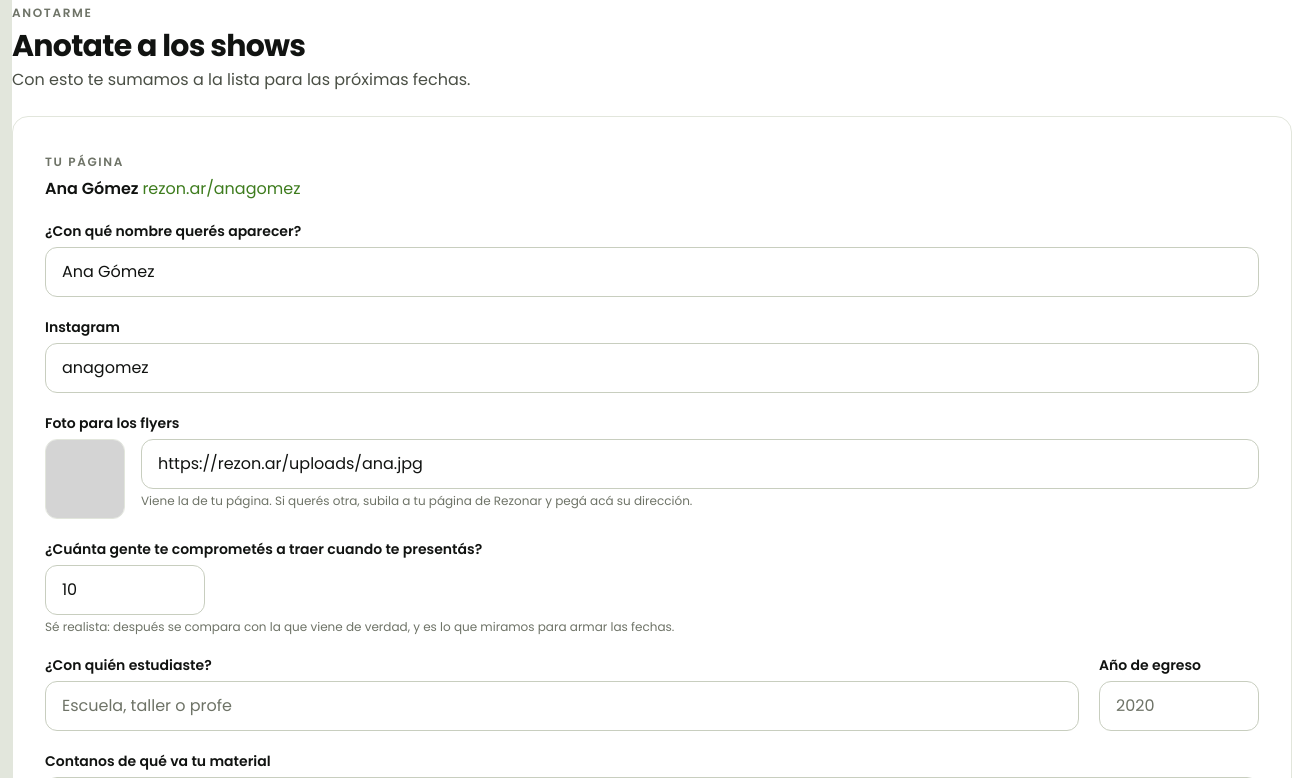
Scenario: Alta de comediante › manda el alta con la página, el nombre y la gente que promete traer
This screenshot has width=1292, height=778.
Replace the text in the number field labelled "¿Cuánta gente te comprometés a traer cuando te presentás?" with "12" at {"x": 125, "y": 590}, box [45, 565, 205, 615]
(page scrolled)
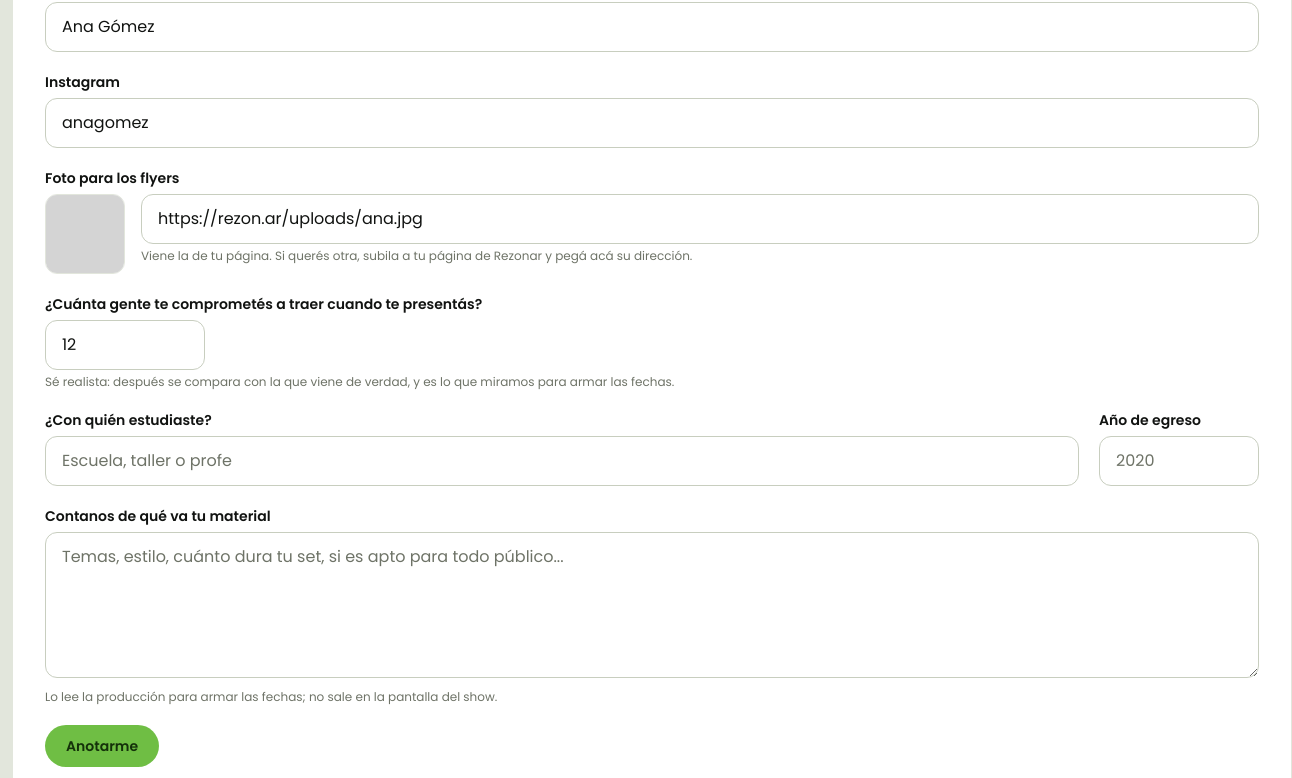
Click the button "Anotarme" at {"x": 102, "y": 746}, box [45, 725, 159, 767]
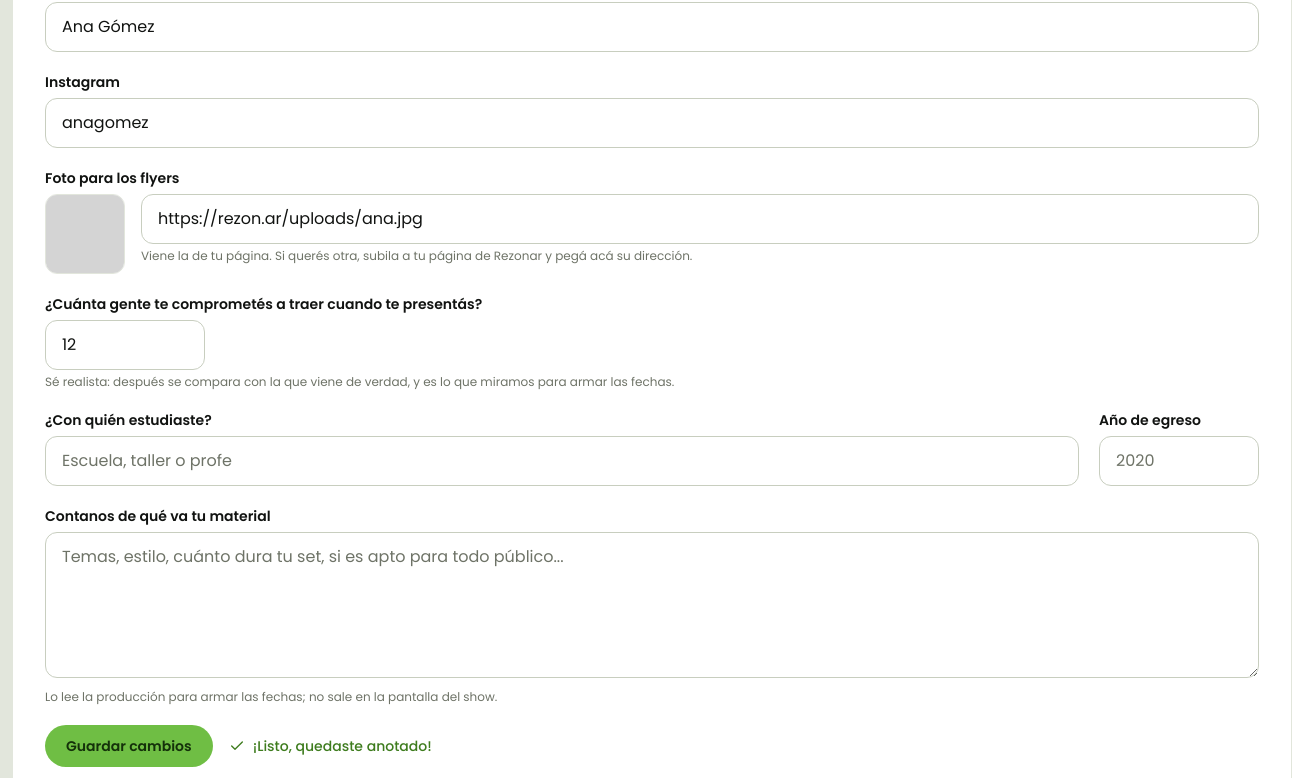
Result: the text "¡Listo, quedaste anotado!" is shown at [229, 736, 432, 756]
